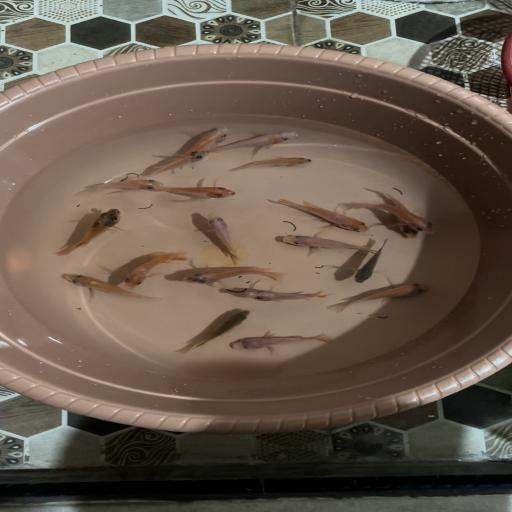nila: (51, 204, 127, 258), (333, 201, 440, 238), (272, 196, 375, 233), (326, 280, 432, 314), (57, 272, 166, 304), (185, 305, 252, 353), (228, 330, 336, 357), (184, 264, 290, 291), (121, 250, 189, 290), (374, 187, 424, 240), (275, 232, 388, 255), (203, 210, 245, 266), (350, 238, 400, 285), (138, 148, 211, 179), (215, 129, 300, 155), (71, 177, 166, 199), (152, 178, 242, 201), (177, 126, 235, 160), (226, 154, 315, 175), (243, 288, 332, 307)
